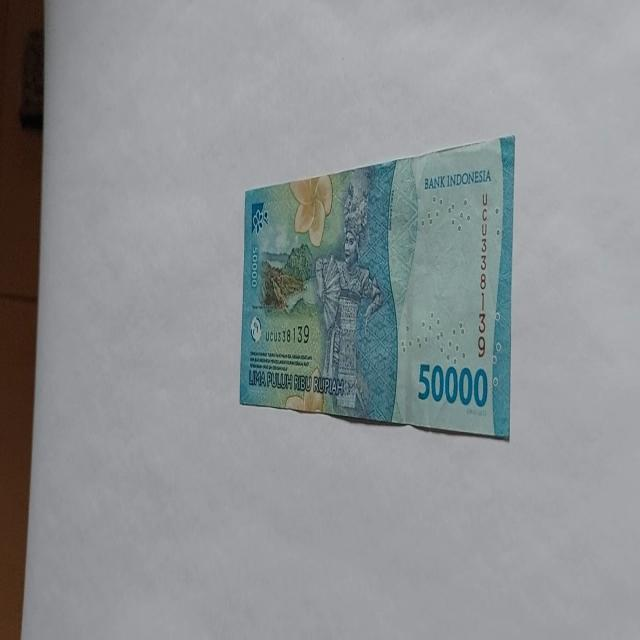lima puluh ribu rupiah: (238, 132, 516, 442)
